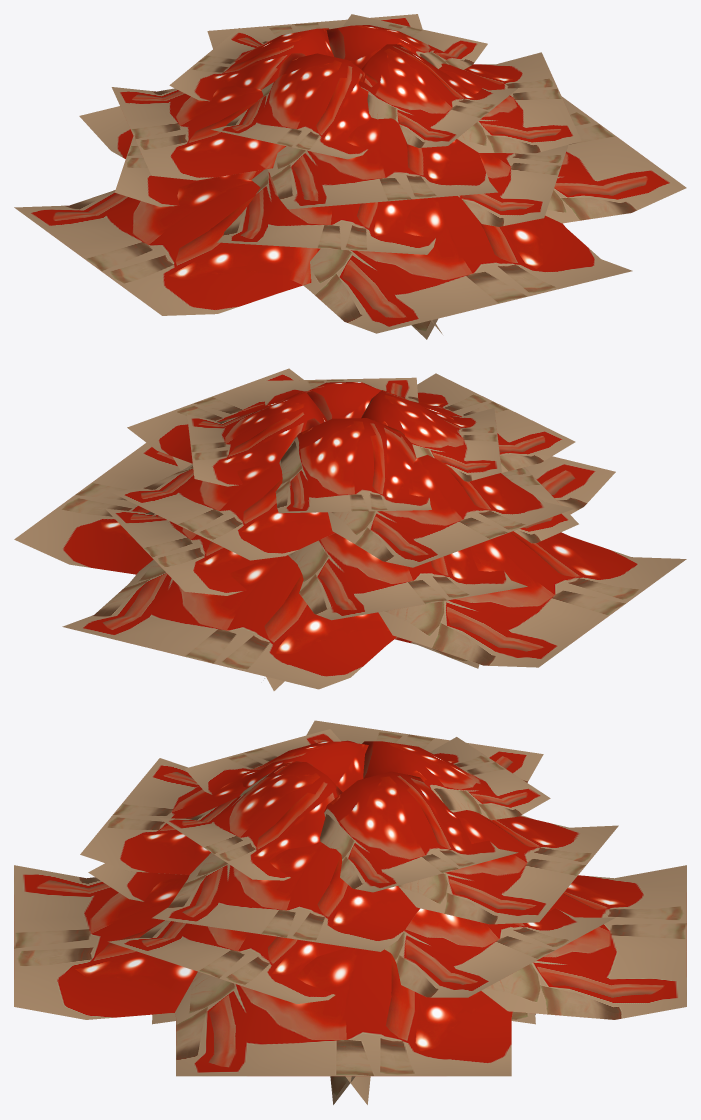
File: Plant_008.fbx
3 renders of one model, top to bottom at view 1: azimuth 30°, elevation 25°; view 2: azimuth 150°, elevation 25°; view 3: azimuth 270°, elevation 25°, orthographic. The views are drawn at different scales.
Parts seen in each view (by area): view 1: Plant_008; view 2: Plant_008; view 3: Plant_008.
Boxes of the visible parts, x1,y1,x2,y2 form: Plant_008: (14, 14, 686, 339); Plant_008: (14, 368, 686, 690); Plant_008: (14, 720, 686, 1104).
Size of the model in its own units: 649 by 271 by 637.
